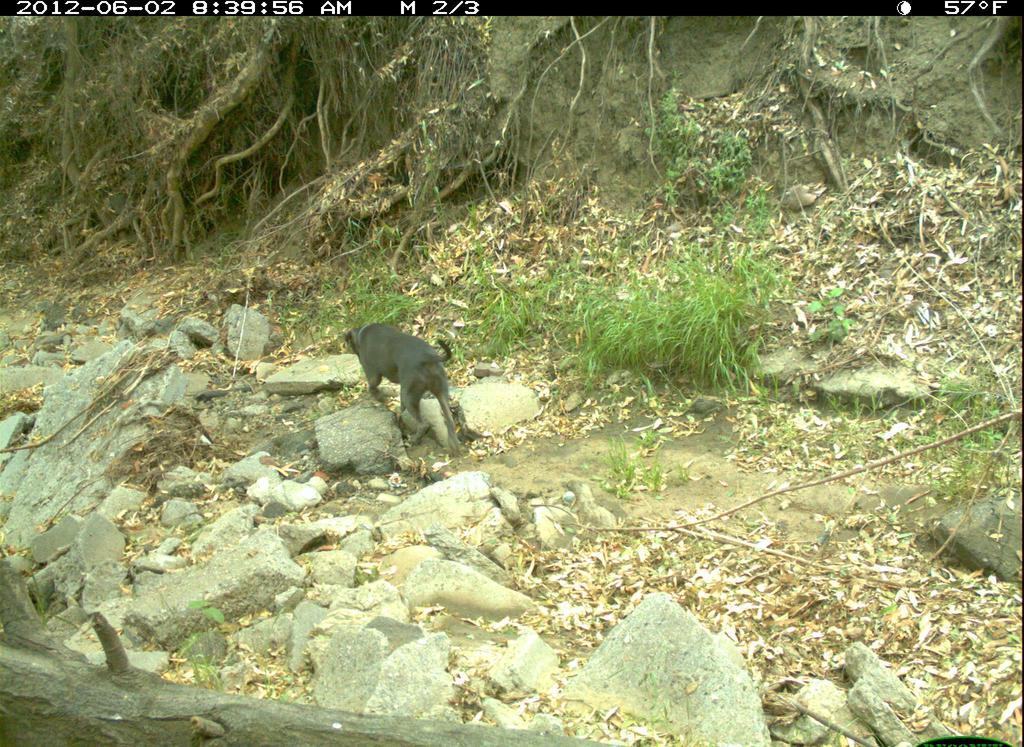dog: (340, 317, 483, 457)
